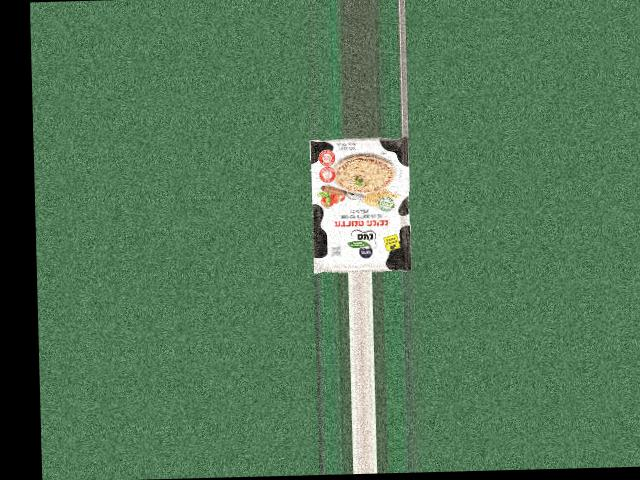cheese: (293, 143, 414, 264)
